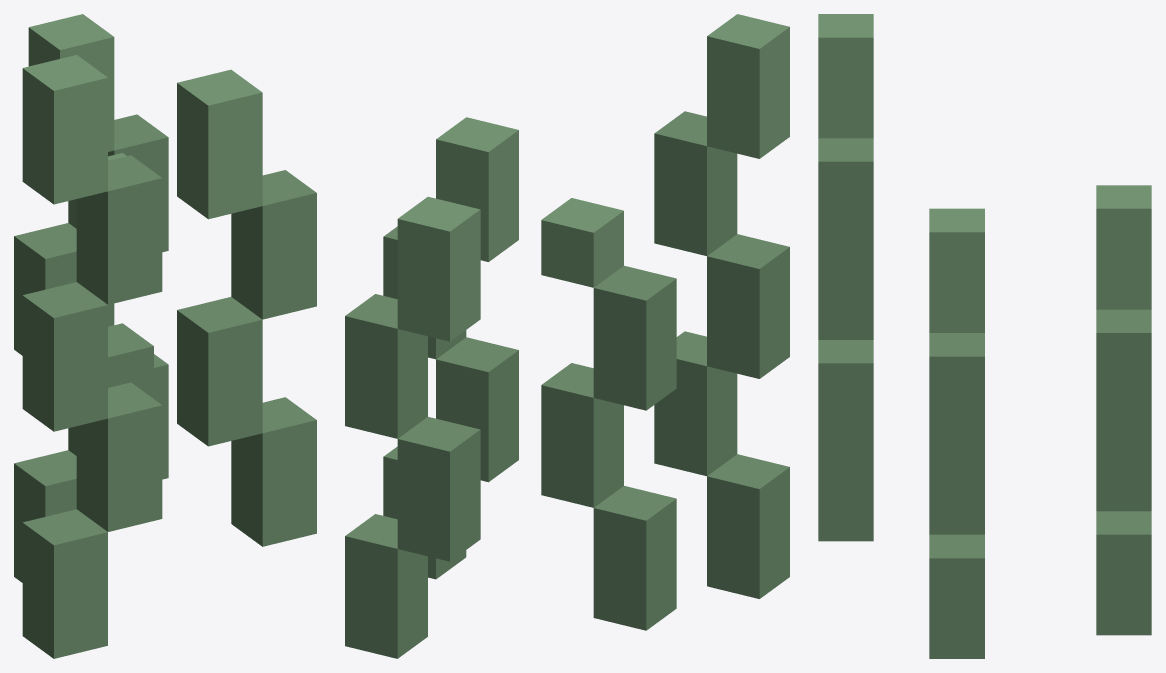
File: alga_parda_04.glb
The picture shows the model from 3 angles, left to right: view 1: azimuth 30°, elevation 25°; view 2: azimuth 150°, elevation 25°; view 3: azimuth 270°, elevation 25°; orthographic projection. The views are drawn at different scales.
Parts seen in each view (by area): view 1: alga_parda_04; view 2: alga_parda_04; view 3: alga_parda_04.
Part boxes in pixels (box(x1,y1,x2,y2)): alga_parda_04: box(14, 14, 316, 658); alga_parda_04: box(345, 14, 789, 658); alga_parda_04: box(818, 14, 1151, 658).
Size of the model in its own units: 0.6 by 1 by 0.6.
